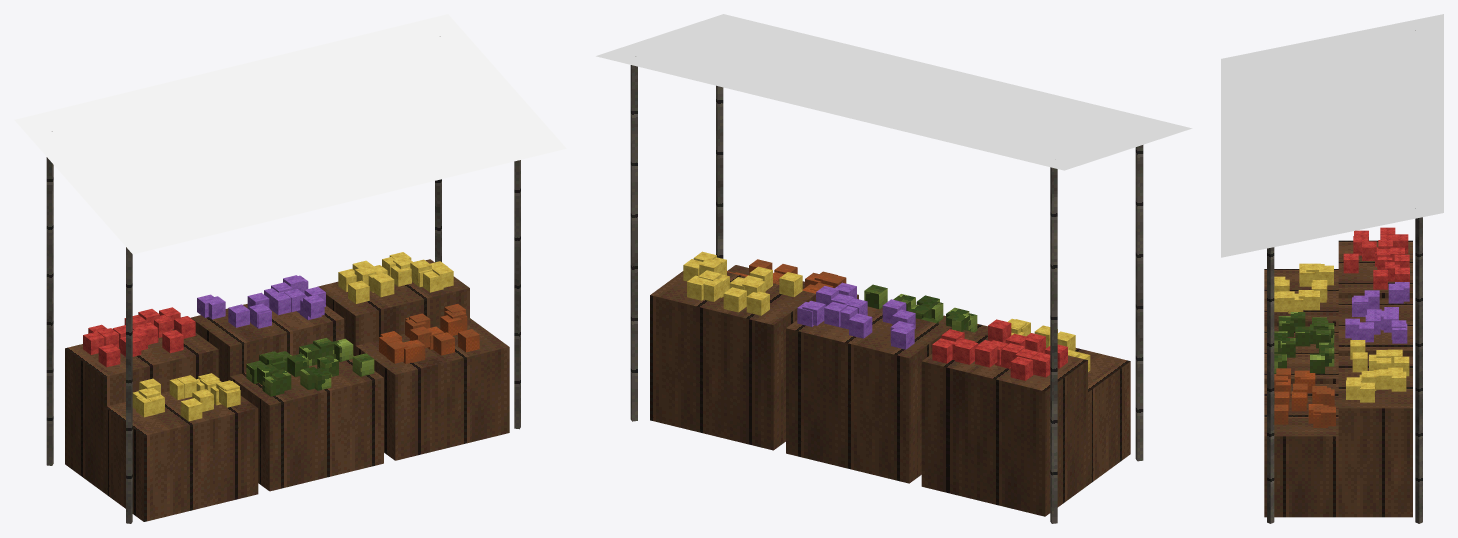
File: puesto_fruta.obj
The picture shows the model from 3 angles, left to right: view 1: azimuth 30°, elevation 25°; view 2: azimuth 150°, elevation 25°; view 3: azimuth 270°, elevation 25°; orthographic projection. The views are drawn at different scales.
Visible parts, largest first — view 1: puesto_fruta; view 2: puesto_fruta; view 3: puesto_fruta.
Part boxes in pixels (x1,y1,x2,y2): puesto_fruta: [14, 14, 566, 523]; puesto_fruta: [596, 14, 1192, 523]; puesto_fruta: [1221, 14, 1443, 523].
Bounding box in the file's own units: 3.8 × 2.85 × 1.8.
Materials: 8 (7 with a texture image).
